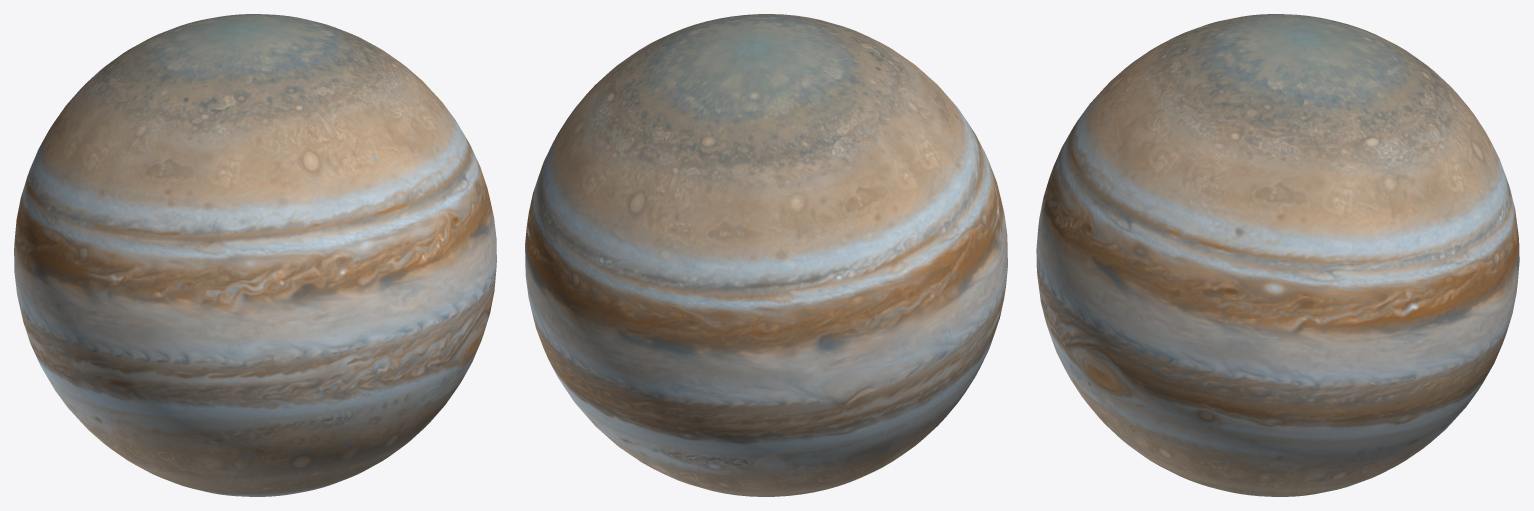
File: juipiter.gltf
3 views of the same model, side by side, from view 1: azimuth 30°, elevation 25°; view 2: azimuth 150°, elevation 25°; view 3: azimuth 270°, elevation 25° (orthographic).
Visible parts, largest first — view 1: jupiter_15; view 2: jupiter_15; view 3: jupiter_15.
Boxes of the visible parts, left/top/right/bottom form: jupiter_15: left=14, top=14, right=496, bottom=496; jupiter_15: left=525, top=14, right=1007, bottom=496; jupiter_15: left=1036, top=14, right=1519, bottom=496.
Size of the model in its own units: 5.45 by 5.45 by 5.45.
1 material, 1 textured.
